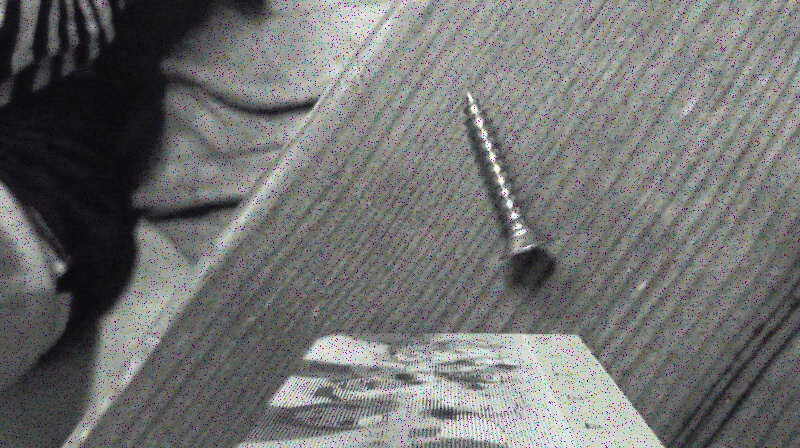S001: (456, 88, 560, 261)
